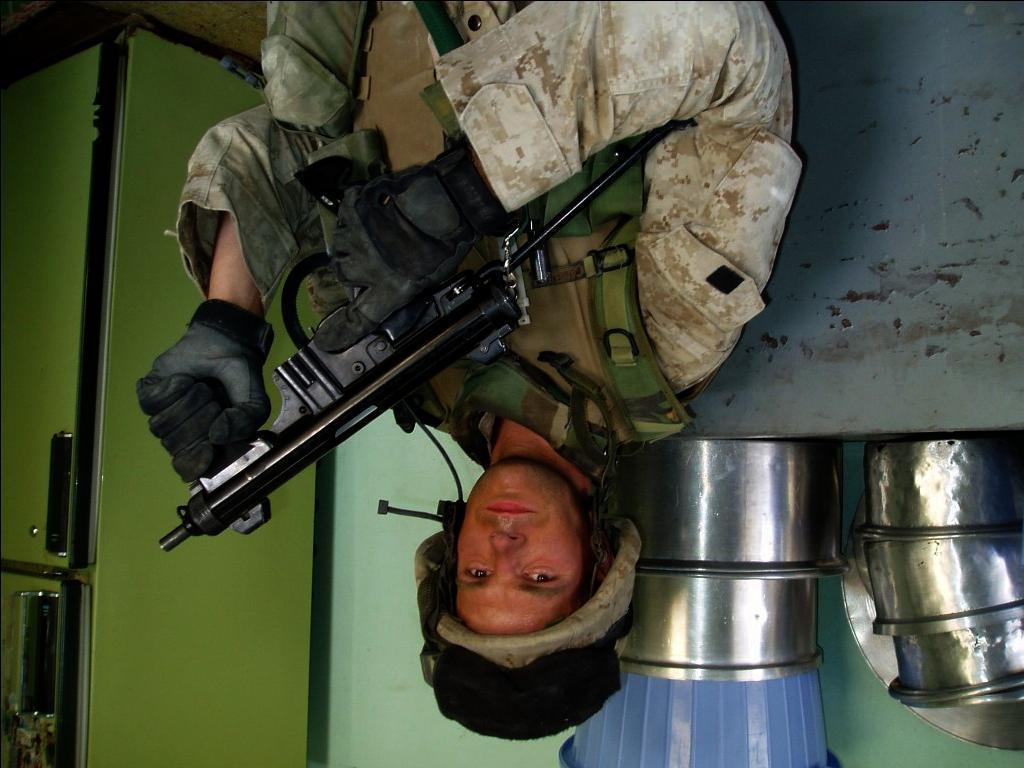gun: (154, 247, 546, 555)
